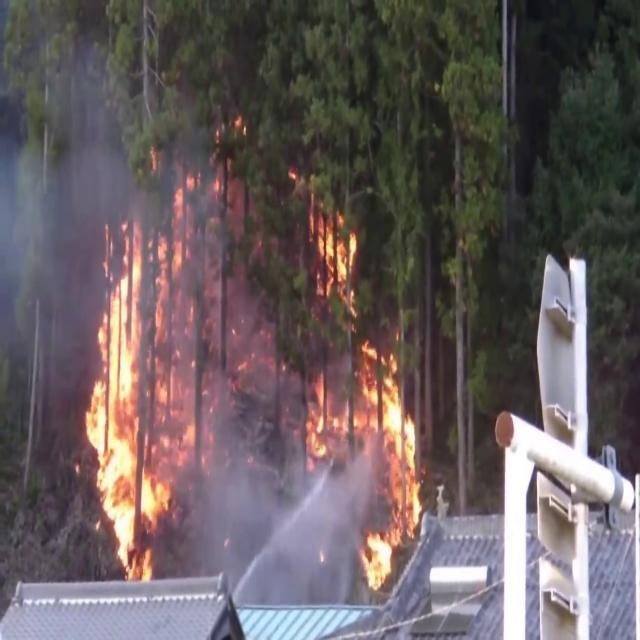Fire: (293, 207, 426, 594), (77, 212, 197, 574)
Smoke: (4, 8, 150, 343), (188, 392, 374, 602)
